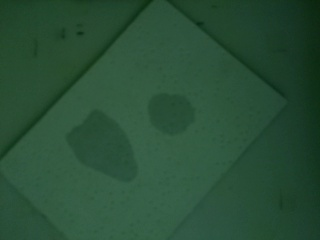Water_detected: (76, 127, 136, 180), (153, 98, 192, 135)
